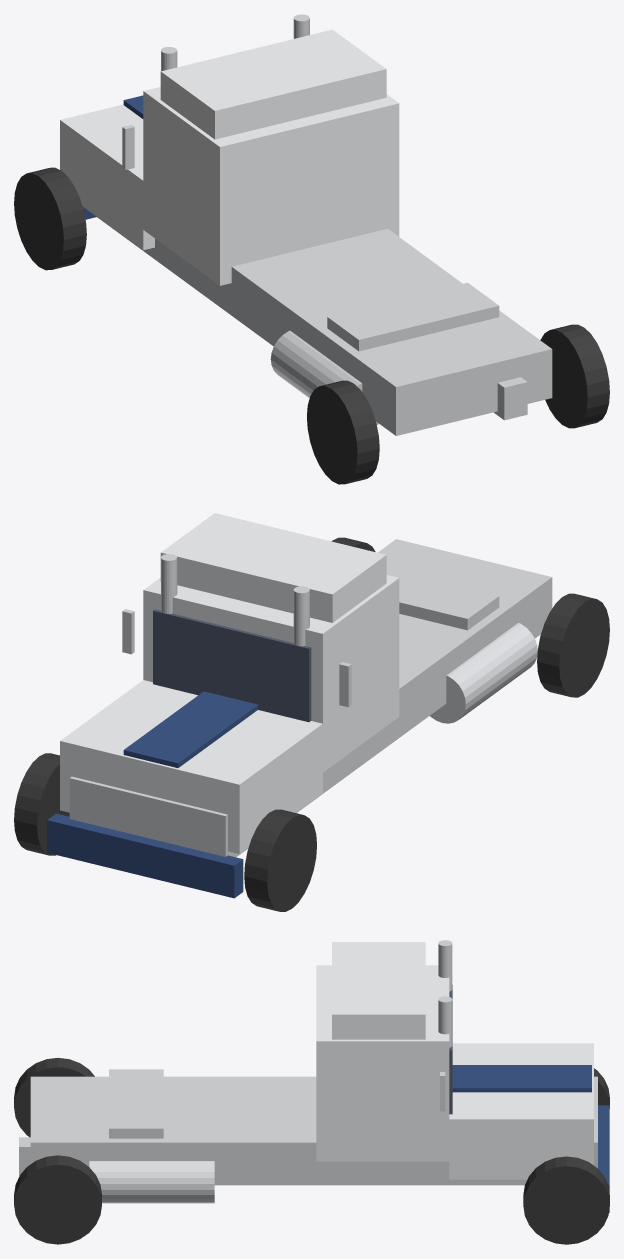
The model's file is tractor.glb.
3 views of the same model, one above another, from view 1: azimuth 30°, elevation 25°; view 2: azimuth 150°, elevation 25°; view 3: azimuth 270°, elevation 25° (orthographic). The views are drawn at different scales.
Parts seen in each view (by area): view 1: Cab, Chassis, Sleeper, Hood, FifthWheel, WheelDriveL, WheelSteerL, WheelDriveR, FuelTankL, LandingGear; view 2: Chassis, Hood, Cab, Sleeper, Windshield, Bumper, WheelDriveL, WheelSteerL, HoodStripe, FuelTankL, FifthWheel, WheelSteerR (+4 smaller); view 3: Chassis, Cab, Hood, Sleeper, WheelDriveR, WheelSteerR, FuelTankR, HoodStripe, FifthWheel, WheelDriveL, Bumper, StackL (+1 smaller).
Boxes of the visible parts, x1,y1,x2,y2 form: Cab: (143,87,399,285); Chassis: (82,206,552,435); Sleeper: (160,29,386,139); Hood: (60,104,154,250); FifthWheel: (327,282,499,351); WheelDriveL: (307,380,379,484); WheelSteerL: (14,167,86,270); WheelDriveR: (540,324,609,428); FuelTankL: (270,330,378,424); LandingGear: (494,377,527,420); Chassis: (69,539,552,857); Hood: (60,680,322,853); Cab: (143,575,399,772); Sleeper: (160,513,386,622); Windshield: (153,609,311,722); Bumper: (47,813,243,898); WheelDriveL: (537,593,609,697); WheelSteerL: (244,809,316,911); HoodStripe: (123,691,258,767); FuelTankL: (430,623,537,723); FifthWheel: (386,568,499,630); WheelSteerR: (14,753,69,855); Chassis: (30,1076,597,1185); Cab: (316,965,449,1161); Hood: (449,1043,593,1179); Sleeper: (332,942,425,1039); WheelDriveR: (14,1155,101,1244); WheelSteerR: (523,1156,609,1244); FuelTankR: (89,1161,214,1203); HoodStripe: (452,1065,591,1092); FifthWheel: (109,1069,163,1138); WheelDriveL: (14,1058,94,1137); Bumper: (598,1105,609,1212); StackL: (438,940,452,991).
Size of the model in its own units: 3.25 by 3.1 by 7.62.
